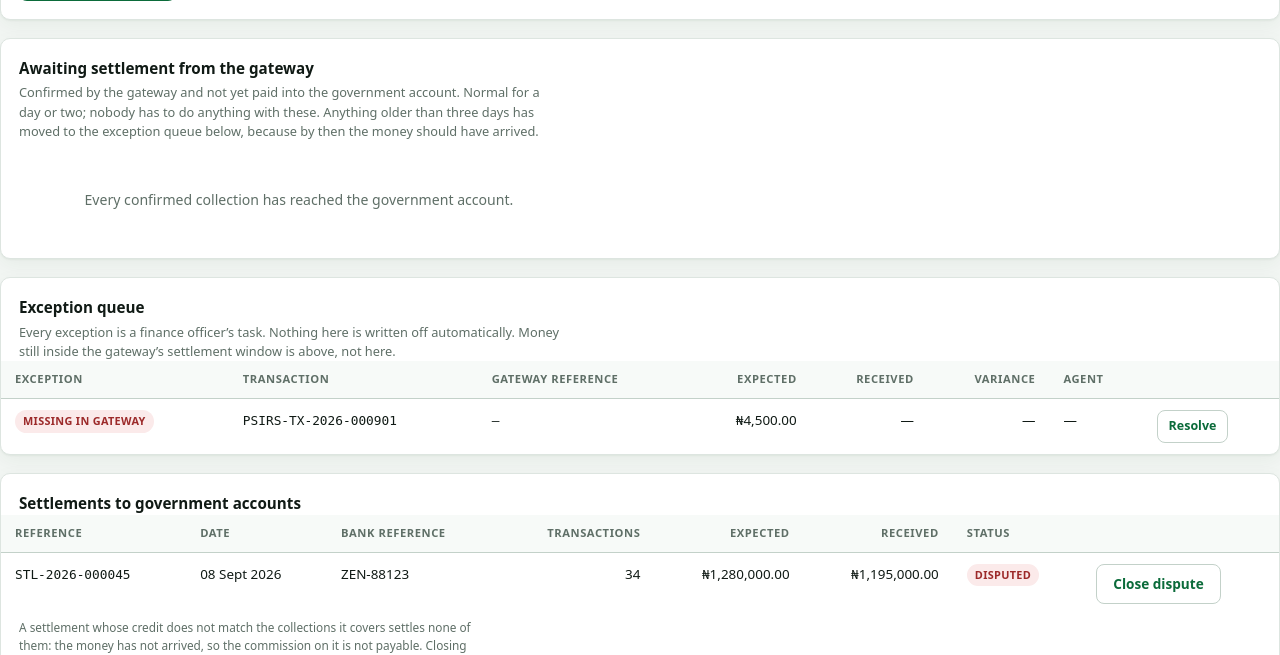
Test: an answer the screen cannot use › says so when the credited amount does not parse
(page scrolled)
Expected: the text "STL-2026-000045" is shown, [15,567,131,582]
Click the button "Close dispute". click: (1158, 584)
box: [1096,564,1221,604]
(page scrolled)
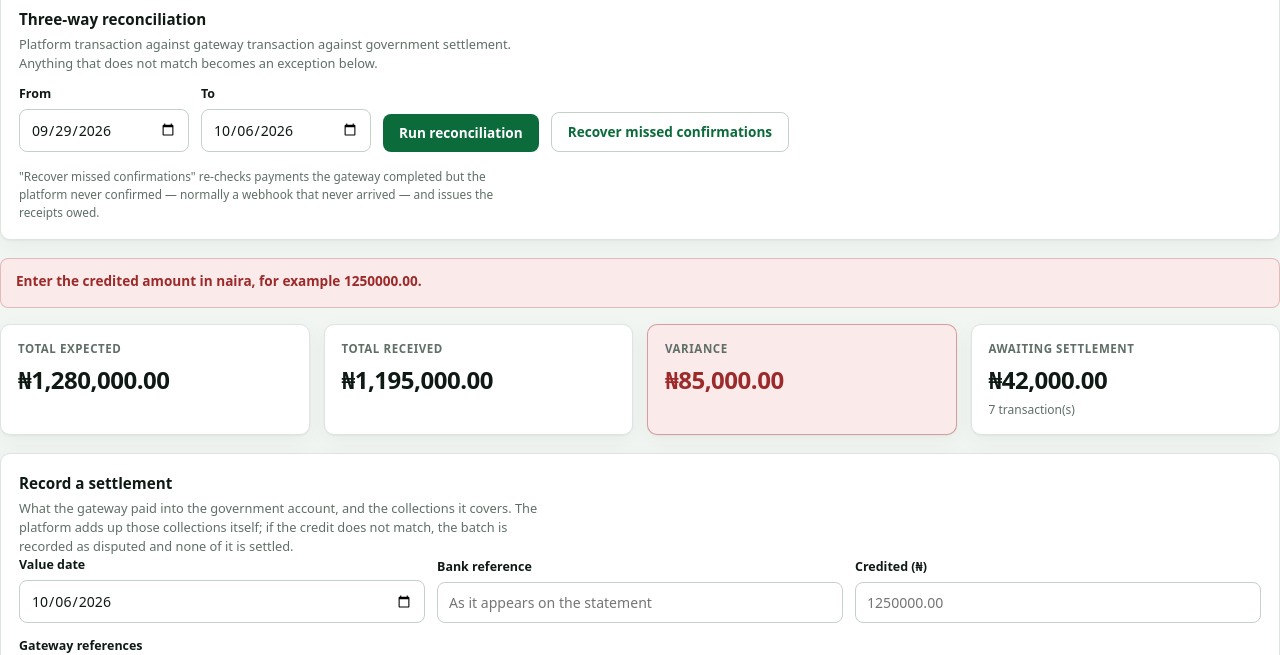
Expected: the text "Enter the credited amount in naira, for example 1250000.00." is shown, [16,271,422,290]
